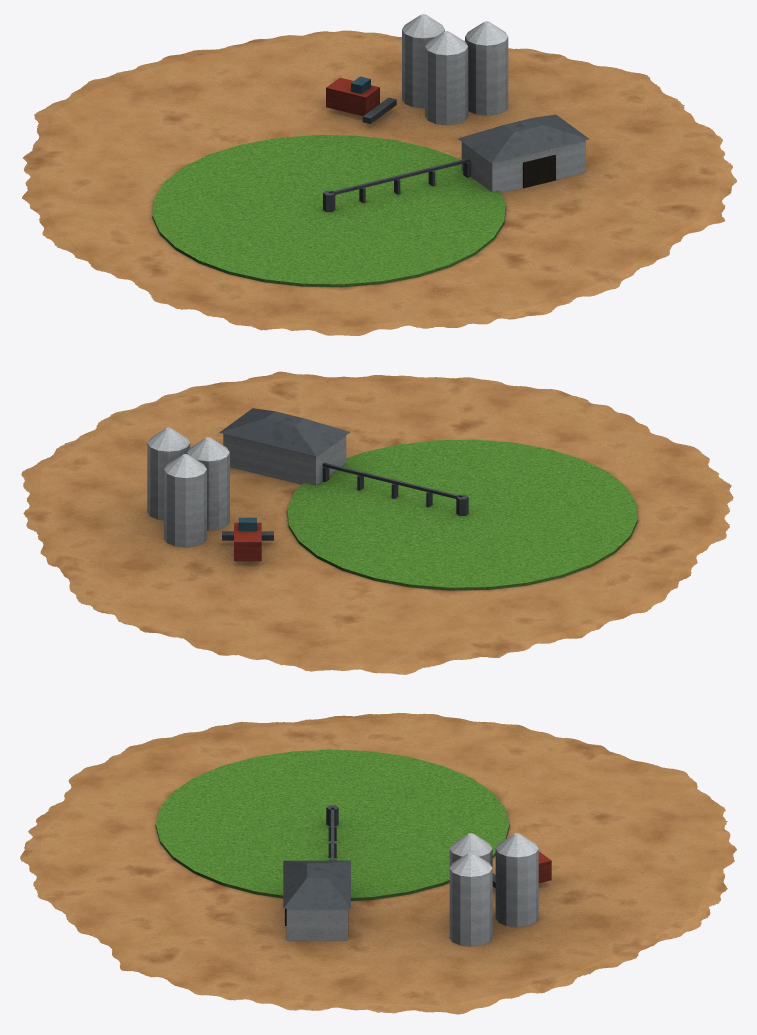
File: farm-information.glb
3 views of the same model, one above another, from view 1: azimuth 30°, elevation 25°; view 2: azimuth 150°, elevation 25°; view 3: azimuth 270°, elevation 25° (orthographic).
Visible parts, largest first — view 1: LOD0; view 2: LOD0; view 3: LOD0.
Part boxes in pixels (x1,y1,x2,y2): LOD0: [22, 14, 736, 335]; LOD0: [21, 371, 733, 674]; LOD0: [20, 713, 736, 1014].
Size of what is drawn, in the model's own units: 4.77 by 0.6299 by 4.74.
Materials: 2 (2 with a texture image).
